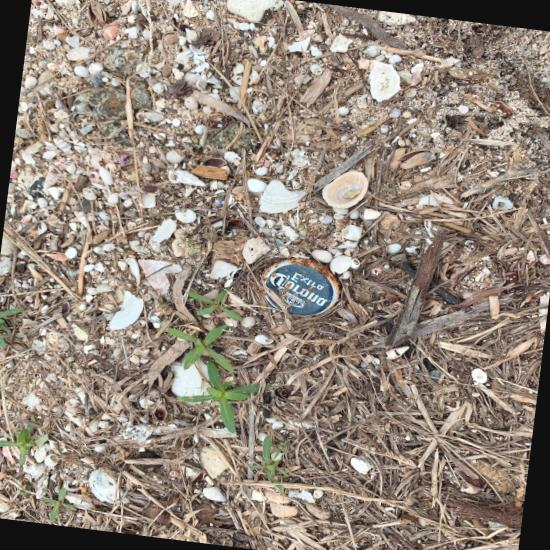Corrugated carton: (201, 439, 312, 549), (154, 319, 246, 388)
